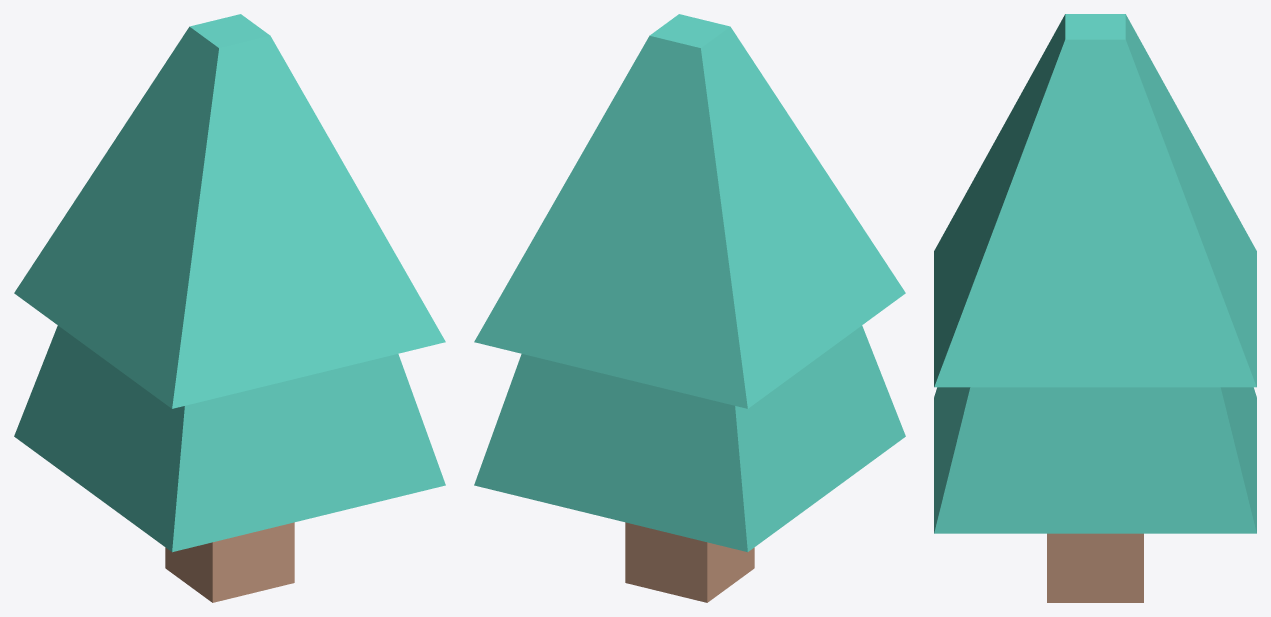
File: prop_tree.glb
3 renders of one model, left to right at view 1: azimuth 30°, elevation 25°; view 2: azimuth 150°, elevation 25°; view 3: azimuth 270°, elevation 25°, orthographic. The views are drawn at different scales.
Parts seen in each view (by area): view 1: unit_tree; view 2: unit_tree; view 3: unit_tree.
Part boxes in pixels (x1,y1,x2,y2): unit_tree: (14,14,445,602); unit_tree: (474,14,905,602); unit_tree: (934,14,1256,602).
Bounding box in the file's own units: 0.8073 × 1.53 × 0.8073.
